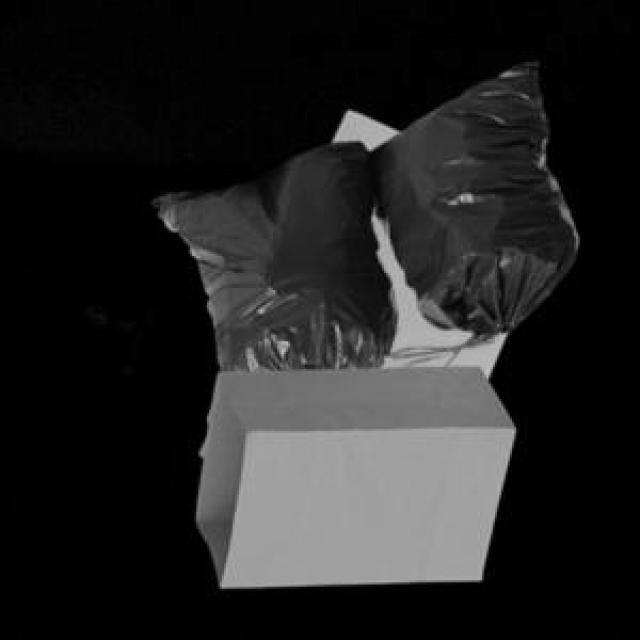miscellaneous trash: (149, 58, 574, 369)
paper: (192, 363, 512, 585), (367, 202, 502, 376)
